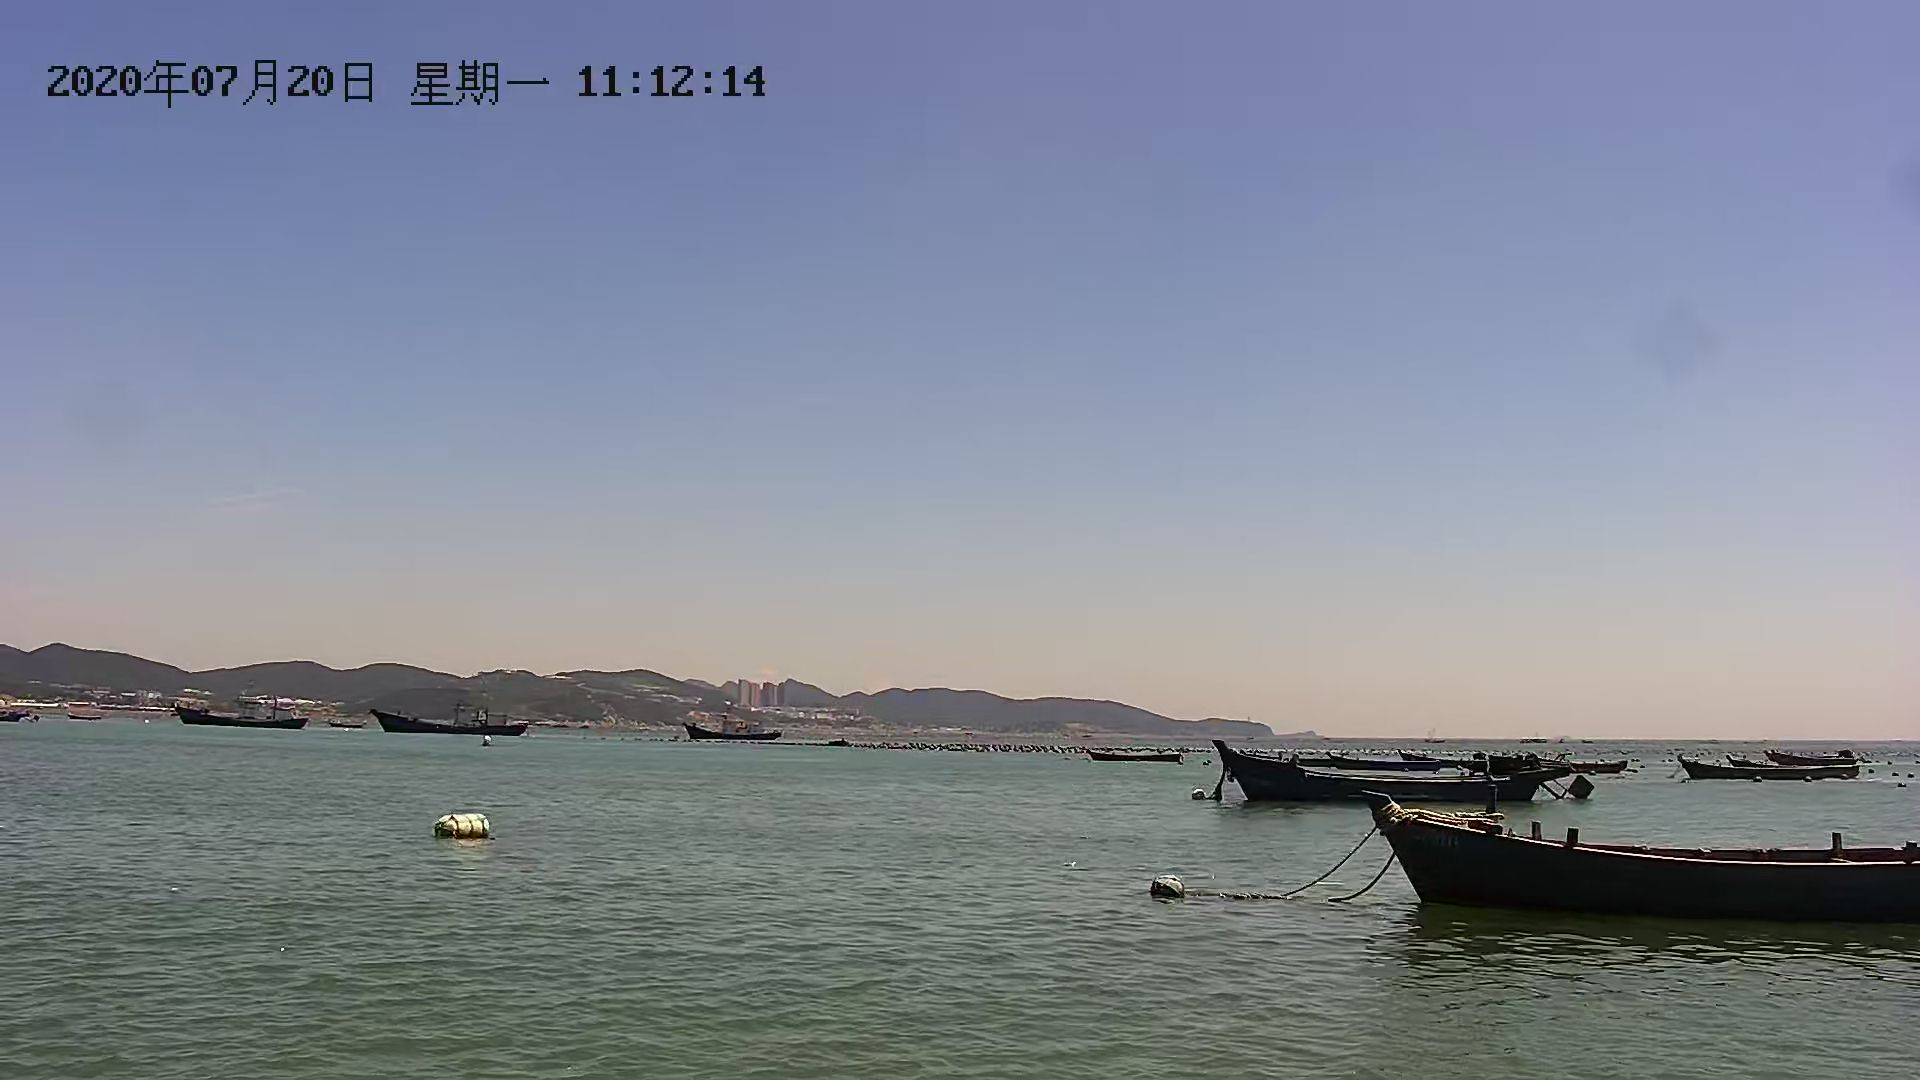ball: (1153, 876, 1197, 899)
boat: (1360, 795, 1920, 949), (1215, 736, 1596, 800), (1675, 746, 1869, 783), (181, 698, 311, 735), (373, 708, 524, 738), (1080, 753, 1185, 765)
rubbish: (426, 810, 491, 839)
